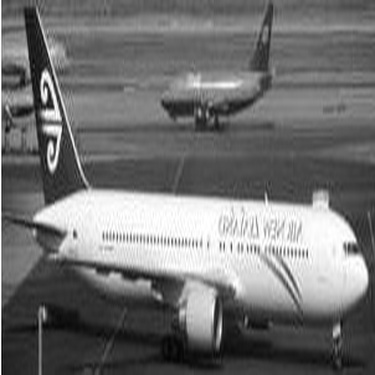airplane: (8, 4, 365, 368), (148, 4, 294, 144), (7, 1, 87, 140)
